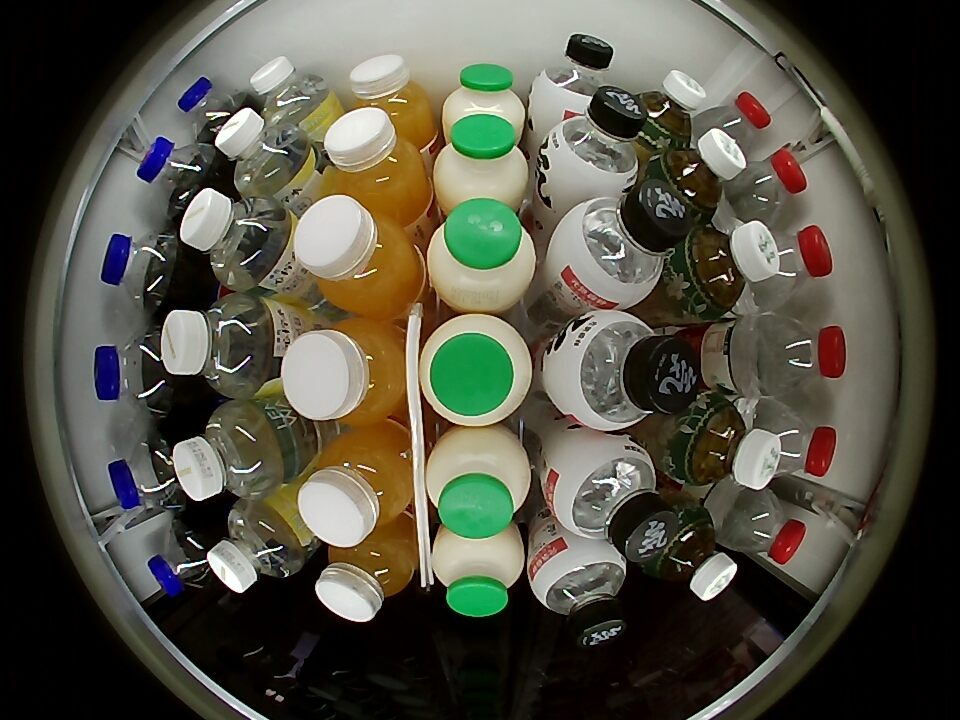baishikele-2: (93, 328, 173, 418), (100, 229, 182, 312), (107, 432, 187, 514), (136, 136, 219, 215), (147, 518, 216, 597), (177, 76, 246, 143)
liziyuan: (420, 314, 533, 426), (428, 201, 537, 313), (427, 426, 532, 538), (434, 106, 529, 211), (433, 524, 525, 618), (443, 63, 525, 136)
moliqingcha: (671, 219, 781, 318), (669, 396, 781, 493), (639, 504, 738, 602), (652, 129, 747, 219), (633, 70, 706, 148)
nongfushanquan: (760, 315, 847, 393), (722, 489, 808, 566), (758, 224, 833, 306), (759, 402, 838, 478), (731, 149, 808, 222), (703, 91, 773, 153)
qinningshui: (160, 295, 273, 399), (178, 188, 290, 292), (171, 402, 284, 502), (207, 498, 310, 593), (214, 108, 312, 198), (249, 57, 331, 126)
weic: (294, 194, 426, 316), (298, 426, 415, 547), (282, 319, 409, 424), (323, 107, 433, 224), (315, 523, 417, 623), (348, 54, 436, 145)
yuanqishui: (548, 312, 698, 431), (550, 182, 689, 310), (544, 432, 675, 559), (540, 87, 648, 197), (529, 538, 629, 648), (531, 34, 615, 117)
